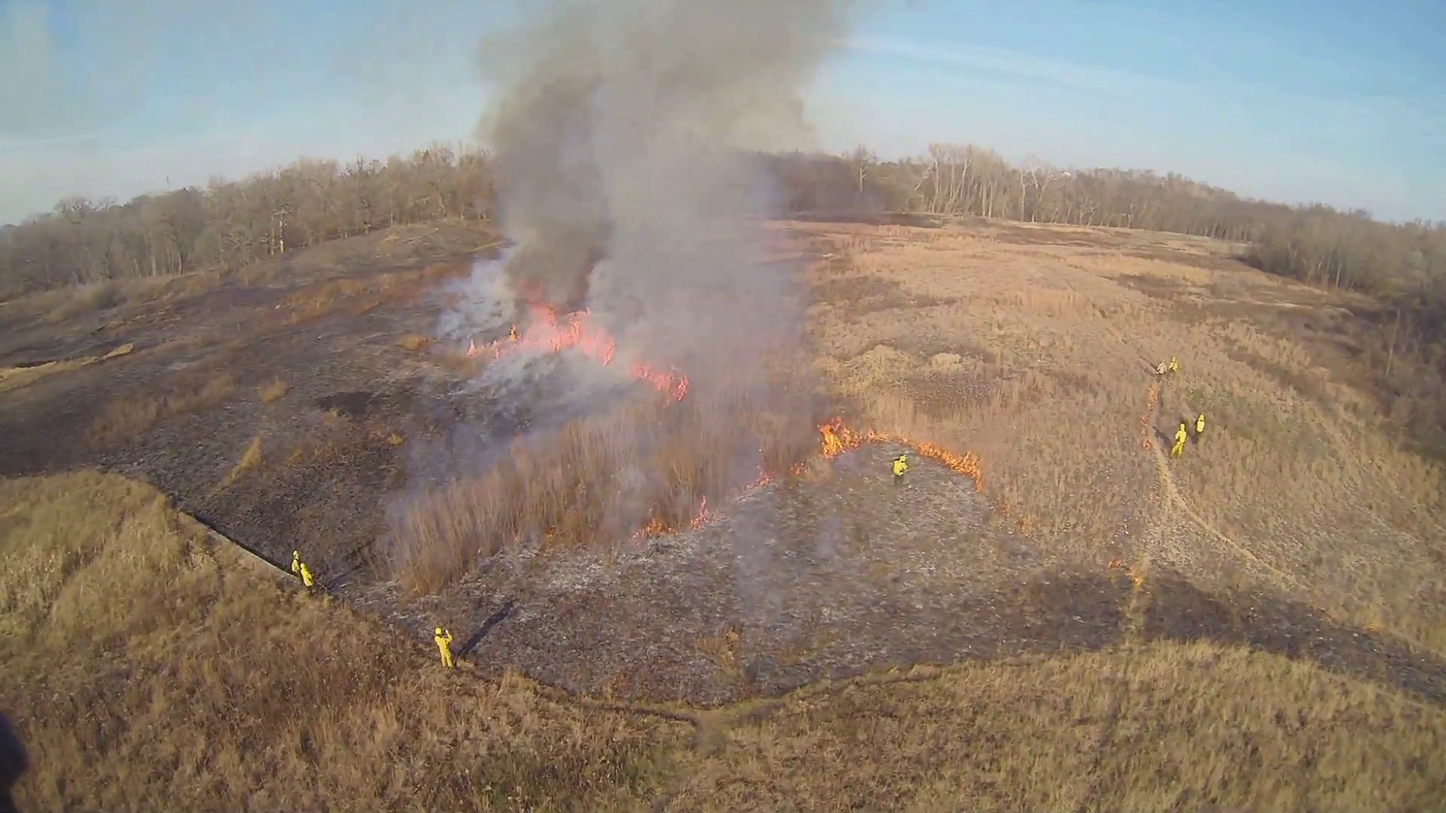forest_fire: (819, 419, 982, 491), (466, 306, 616, 366), (625, 362, 689, 402)
